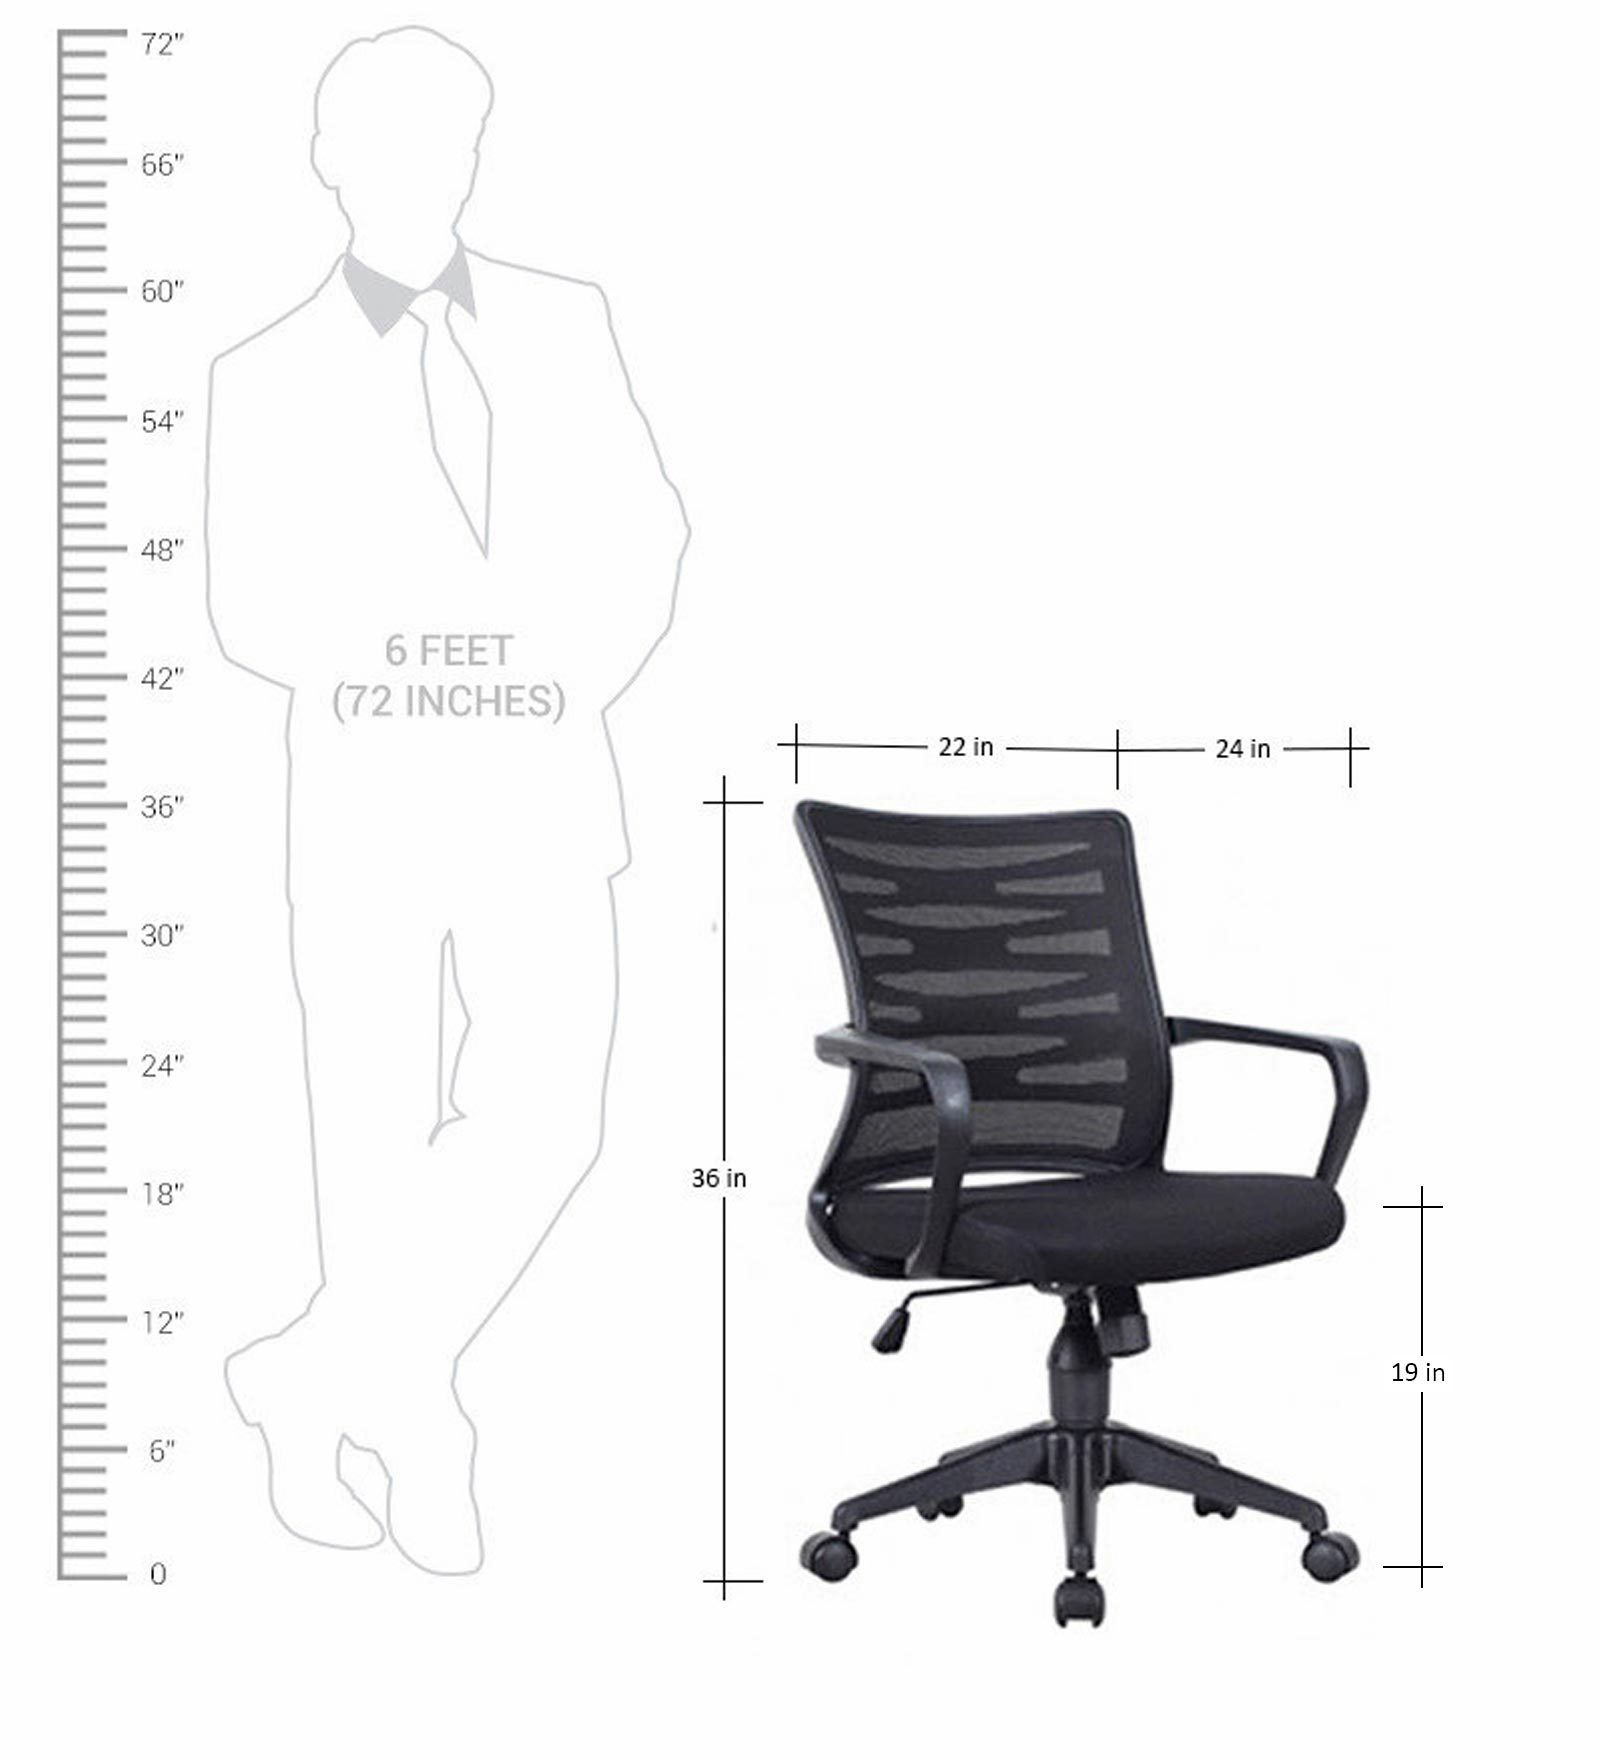Contour Ergonomic Chair in Black Colour by VOF: (765, 777, 1376, 1642)
